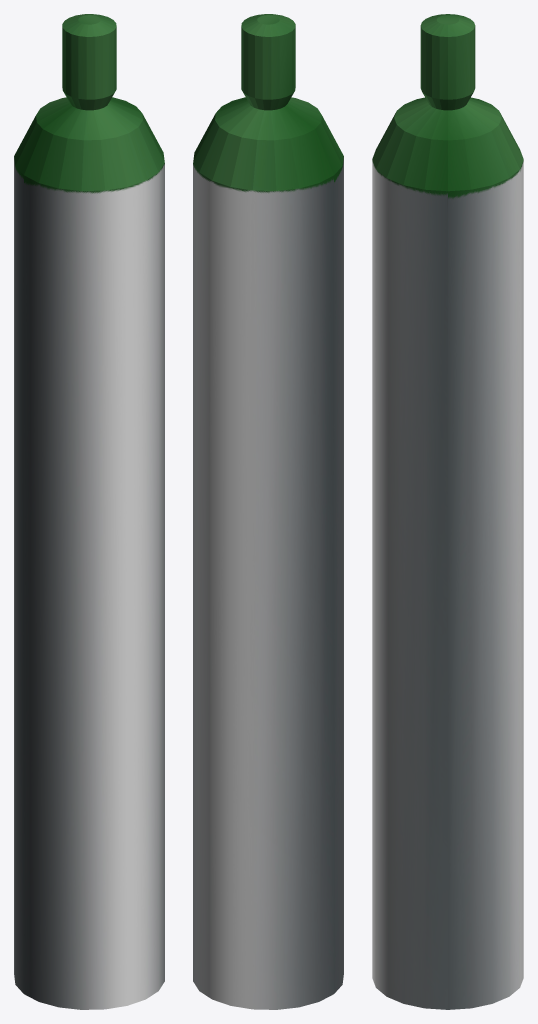
Rendered from oxigeno.FBX.
The picture shows the model from 3 angles, left to right: view 1: azimuth 30°, elevation 25°; view 2: azimuth 150°, elevation 25°; view 3: azimuth 270°, elevation 25°; orthographic projection.
Visible parts, largest first — view 1: Cylinder003; view 2: Cylinder003; view 3: Cylinder003.
Boxes of the visible parts, x1,y1,x2,y2 form: Cylinder003: (14,14,164,1009); Cylinder003: (193,14,343,1009); Cylinder003: (372,14,523,1009).
Size of the model in its own units: 5.52 by 38.53 by 5.52.
